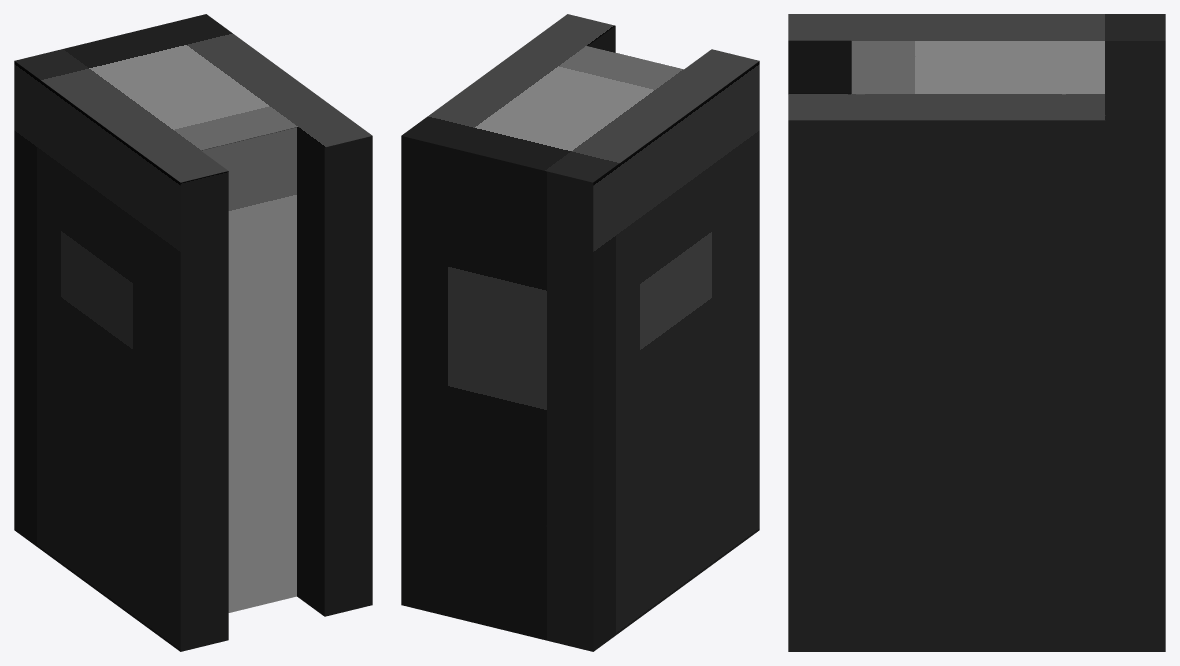
The model's file is book_0x282_05.glb.
3 renders of one model, left to right at view 1: azimuth 30°, elevation 25°; view 2: azimuth 150°, elevation 25°; view 3: azimuth 270°, elevation 25°, orthographic. The views are drawn at different scales.
Visible parts, largest first — view 1: Cube.001; view 2: Cube.001; view 3: Cube.001.
Part boxes in pixels (x1,y1,x2,y2): Cube.001: (14, 14, 372, 651); Cube.001: (401, 14, 759, 651); Cube.001: (788, 14, 1165, 651).
Size of the model in its own units: 0.25 by 0.5833 by 0.375.
1 material, 1 textured.
